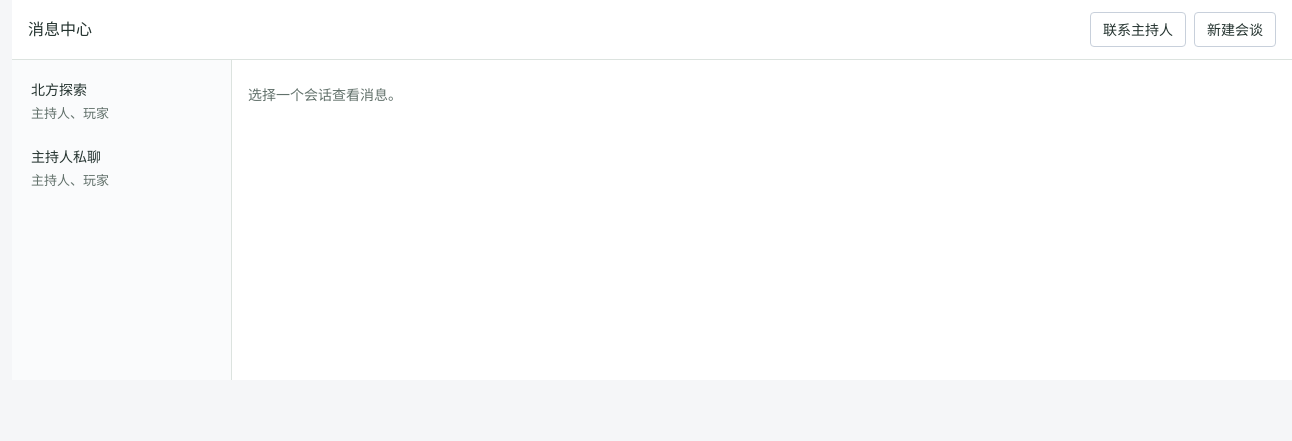
it: MessageCenter › keeps failed text and reuses the message key for a safe retry
The width and height of the screenshot is (1292, 441).
Click the button "北方探索 主持人、玩家": click(122, 101) [22,70,221,132]
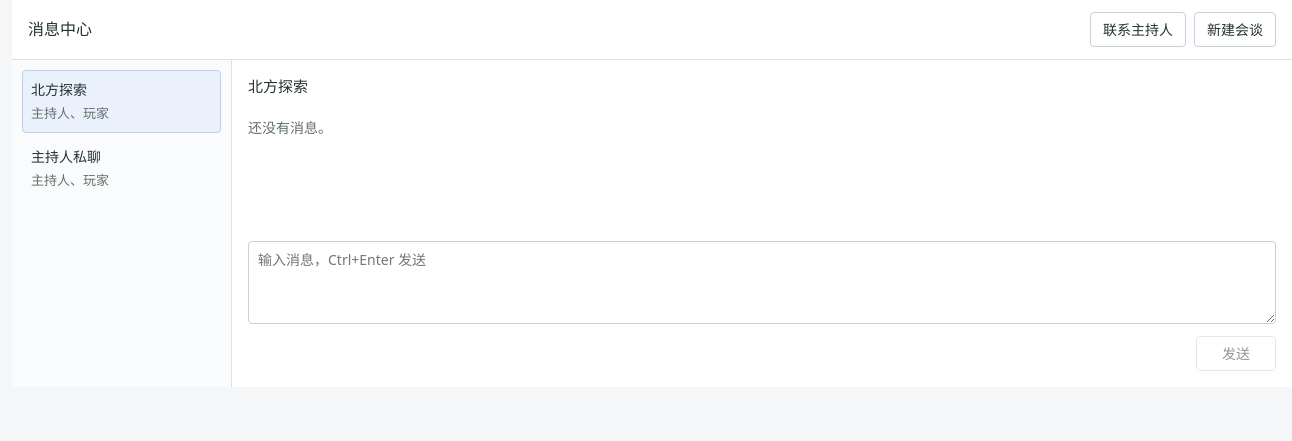
Expected: the text box named "消息内容" is enabled
In the text box named "消息内容": (762, 283) [248,241,1276,324], type "请确认投入"
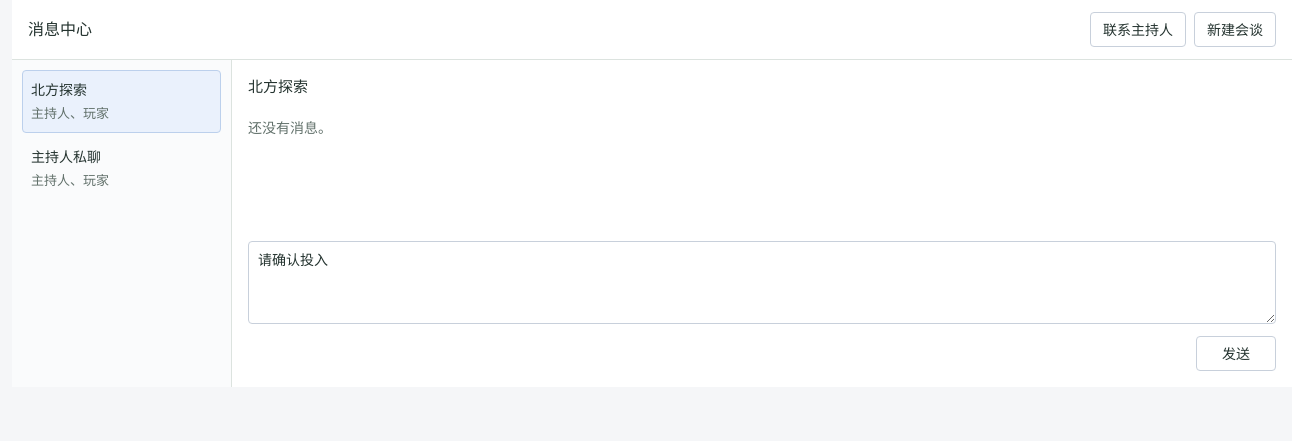
Click the button "发送": click(1236, 354) [1196,336,1276,371]
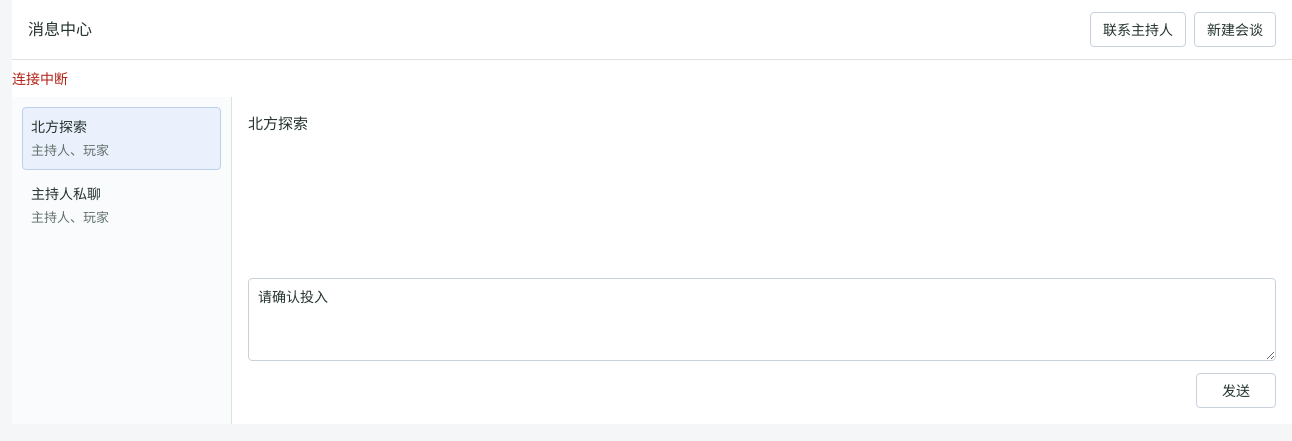
Expected: the text "连接中断" is shown, [12,69,68,88]
Click the button "发送": click(1236, 391) [1196,373,1276,408]
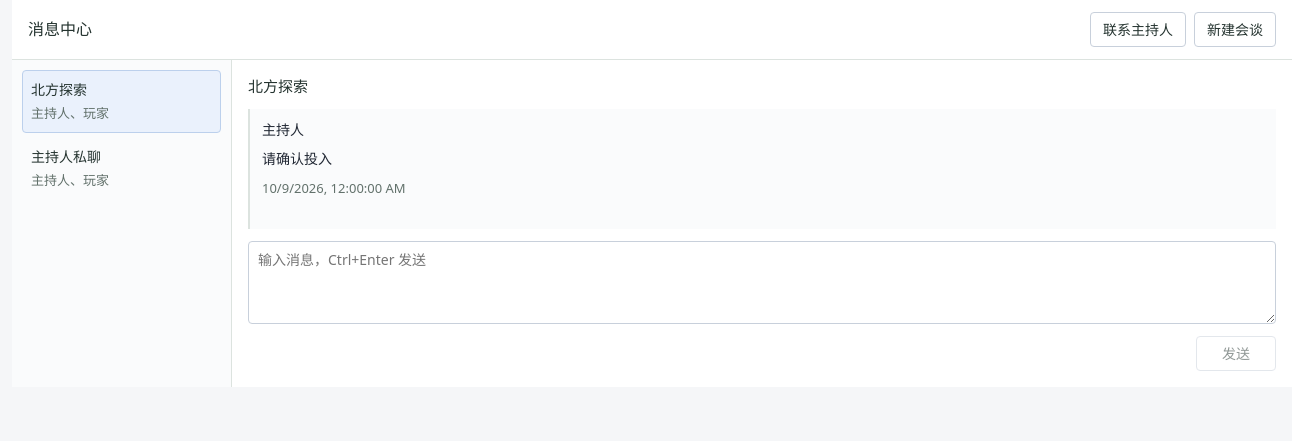
Expected: the text box named "消息内容" is empty, [248,241,1276,324]
Expected: the text "请确认投入" is shown once, [262,149,332,168]
